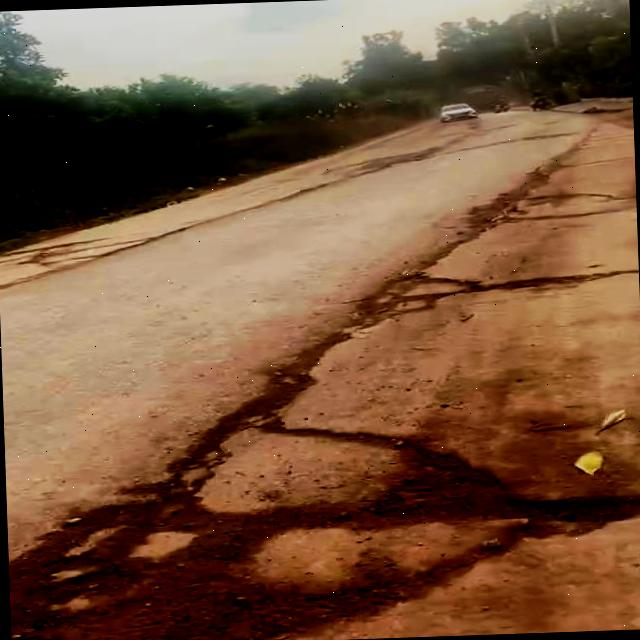pothole: (311, 423, 640, 554)
